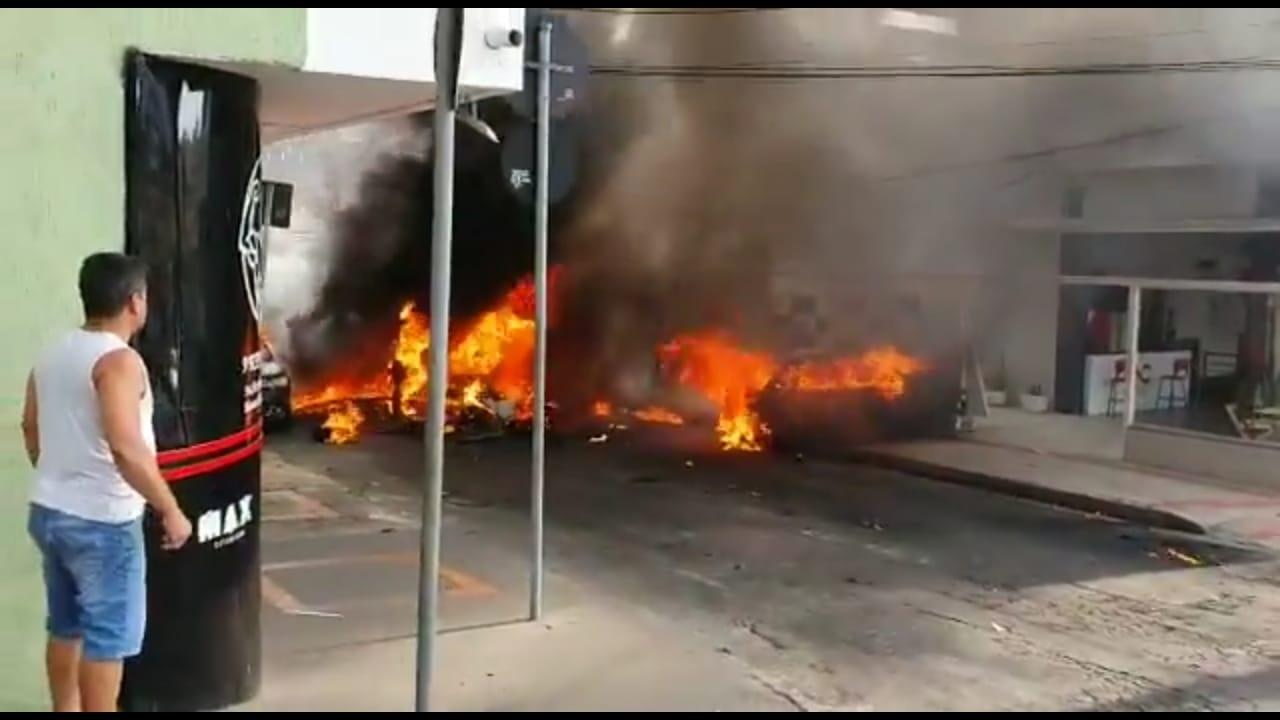Fire: (307, 283, 543, 464), (616, 328, 917, 451)
